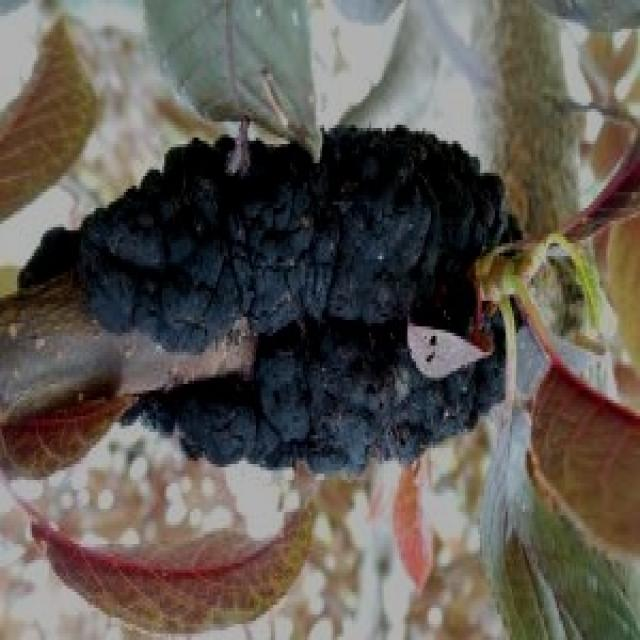Black_knot: (0, 115, 523, 477)
